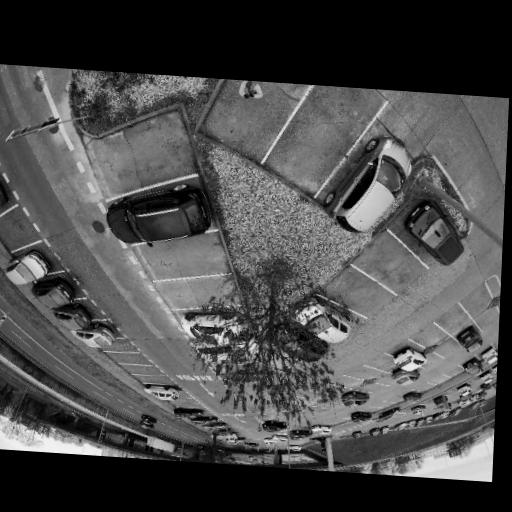busy: (323, 130, 413, 240), (105, 185, 213, 251), (407, 202, 465, 268), (297, 297, 356, 343), (182, 309, 251, 347), (6, 250, 50, 286), (34, 279, 78, 308), (76, 324, 118, 349), (53, 304, 92, 330), (390, 347, 429, 372), (144, 380, 184, 401), (458, 330, 485, 354), (341, 390, 373, 409), (173, 404, 207, 421), (393, 369, 419, 388), (188, 413, 219, 428), (463, 358, 485, 376), (262, 419, 288, 434), (291, 427, 315, 442), (203, 420, 227, 435), (309, 422, 332, 437), (481, 346, 498, 366), (401, 390, 422, 405), (377, 408, 399, 422), (350, 410, 372, 423), (267, 433, 290, 444), (139, 415, 157, 428), (457, 383, 475, 395), (370, 428, 380, 437)
free: (101, 129, 171, 176), (222, 90, 280, 133), (286, 124, 338, 168), (165, 243, 211, 274), (176, 280, 226, 306), (0, 213, 35, 248), (377, 256, 414, 284), (464, 280, 490, 318), (348, 282, 382, 306), (477, 306, 497, 330), (437, 335, 460, 354), (446, 313, 469, 331), (421, 330, 443, 347), (357, 365, 379, 380), (336, 374, 358, 389), (118, 351, 141, 363), (376, 358, 396, 371), (430, 371, 446, 387), (446, 365, 462, 380), (135, 364, 156, 375), (145, 374, 166, 385), (420, 381, 434, 392)
